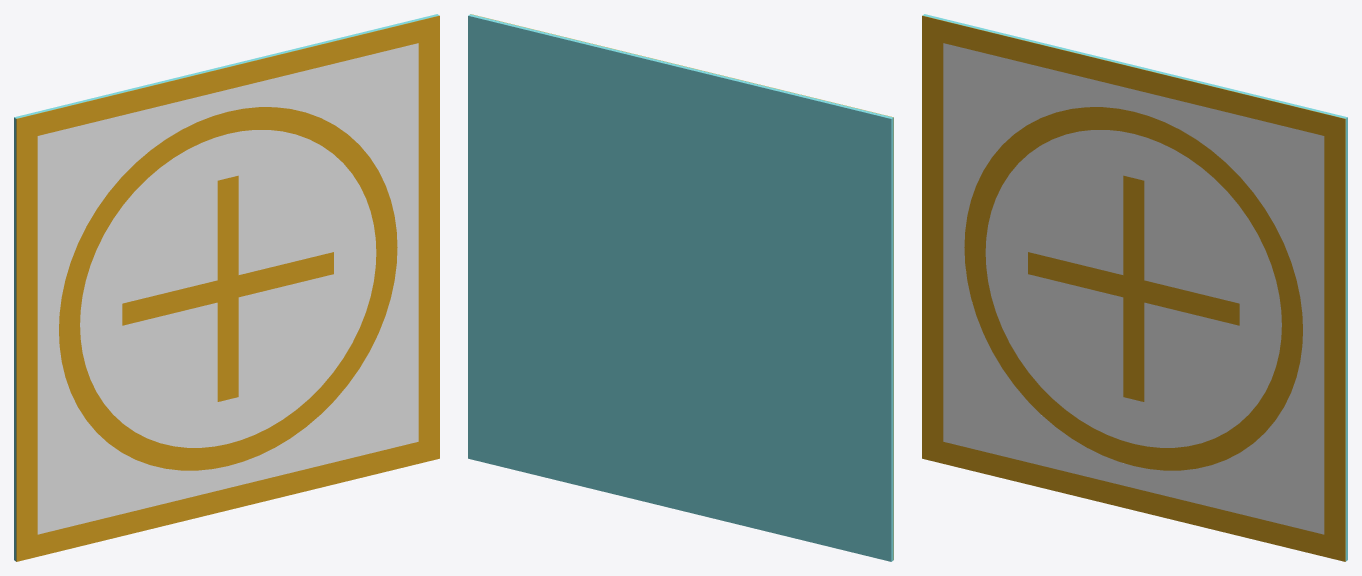
The model's file is landing_platform_white.obj.
3 renders of one model, left to right at view 1: azimuth 30°, elevation 25°; view 2: azimuth 150°, elevation 25°; view 3: azimuth 330°, elevation 25°, orthographic.
Visible parts, largest first — view 1: landing_platform_blue_circle_Body4.004, landing_platform_blue_frame_Body2.005, landing_platform_yellow_frame_Body1.022, landing_platform_yellow_circle_Body3.004, landing_platform_cross_Body5.003, landing_platform_plate_1_Body1.009; view 2: landing_platform_plate_1_Body1.009, landing_platform_yellow_frame_Body1.022; view 3: landing_platform_blue_circle_Body4.004, landing_platform_blue_frame_Body2.005, landing_platform_yellow_frame_Body1.022, landing_platform_yellow_circle_Body3.004, landing_platform_cross_Body5.003, landing_platform_plate_1_Body1.009.
Boxes of the visible parts, left/top/right/bottom form: landing_platform_blue_circle_Body4.004: left=80, top=130, right=376, bottom=447; landing_platform_blue_frame_Body2.005: left=37, top=43, right=418, bottom=534; landing_platform_yellow_frame_Body1.022: left=16, top=15, right=439, bottom=561; landing_platform_yellow_circle_Body3.004: left=59, top=107, right=397, bottom=470; landing_platform_cross_Body5.003: left=122, top=175, right=333, bottom=401; landing_platform_plate_1_Body1.009: left=14, top=14, right=438, bottom=561; landing_platform_plate_1_Body1.009: left=468, top=14, right=893, bottom=561; landing_platform_yellow_frame_Body1.022: left=470, top=14, right=893, bottom=559; landing_platform_blue_circle_Body4.004: left=985, top=130, right=1281, bottom=447; landing_platform_blue_frame_Body2.005: left=943, top=43, right=1324, bottom=534; landing_platform_yellow_frame_Body1.022: left=922, top=15, right=1345, bottom=561; landing_platform_yellow_circle_Body3.004: left=964, top=107, right=1302, bottom=470; landing_platform_cross_Body5.003: left=1028, top=175, right=1239, bottom=401; landing_platform_plate_1_Body1.009: left=923, top=14, right=1347, bottom=561.
Bounding box in the file's own units: 1 × 1 × 0.00988.
